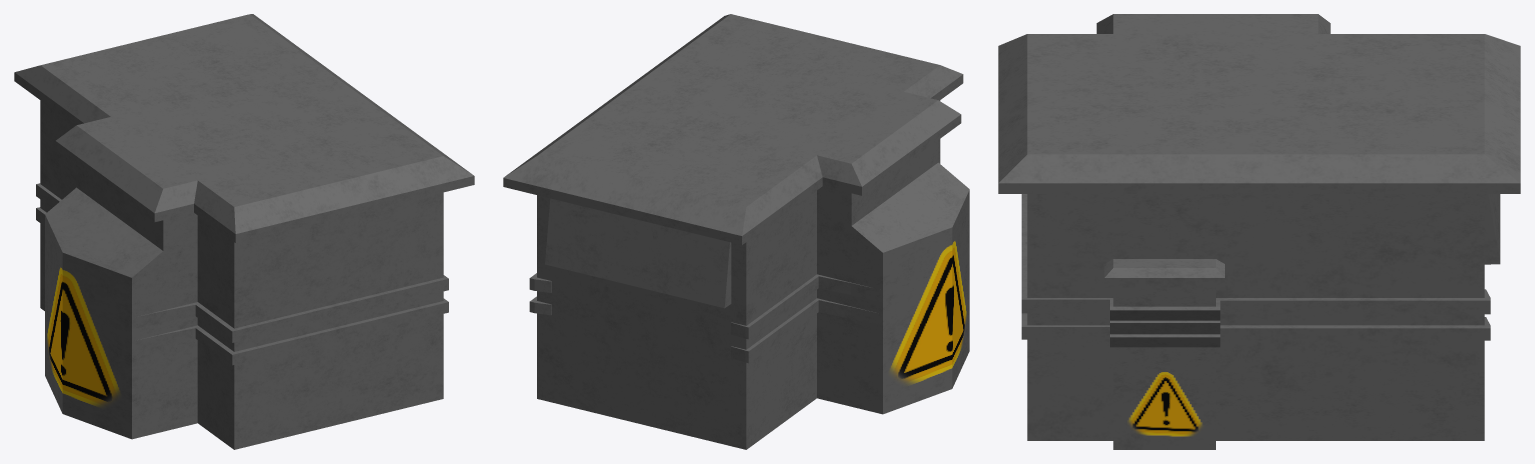
The model's file is sira fignya3.fbx.
The picture shows the model from 3 angles, left to right: view 1: azimuth 30°, elevation 25°; view 2: azimuth 150°, elevation 25°; view 3: azimuth 270°, elevation 25°; orthographic projection. The views are drawn at different scales.
Visible parts, largest first — view 1: Cube.002; view 2: Cube.002; view 3: Cube.002.
Part boxes in pixels (x1,y1,x2,y2): Cube.002: (14, 14, 474, 449); Cube.002: (503, 14, 969, 449); Cube.002: (998, 14, 1520, 449).
Size of the model in its own units: 375 by 268 by 442.
1 material, 1 textured.
